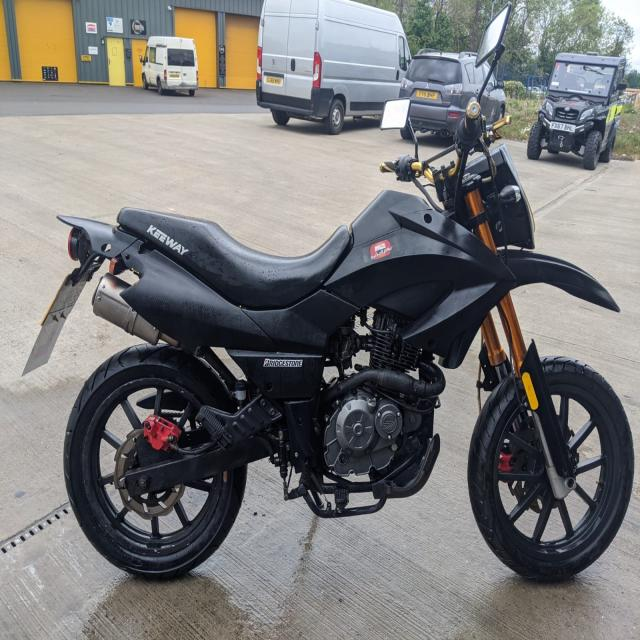Car: (256, 0, 411, 132), (528, 52, 627, 168), (400, 49, 490, 135), (142, 36, 198, 95), (482, 73, 507, 121)
Motorcycle: (22, 100, 634, 580)
